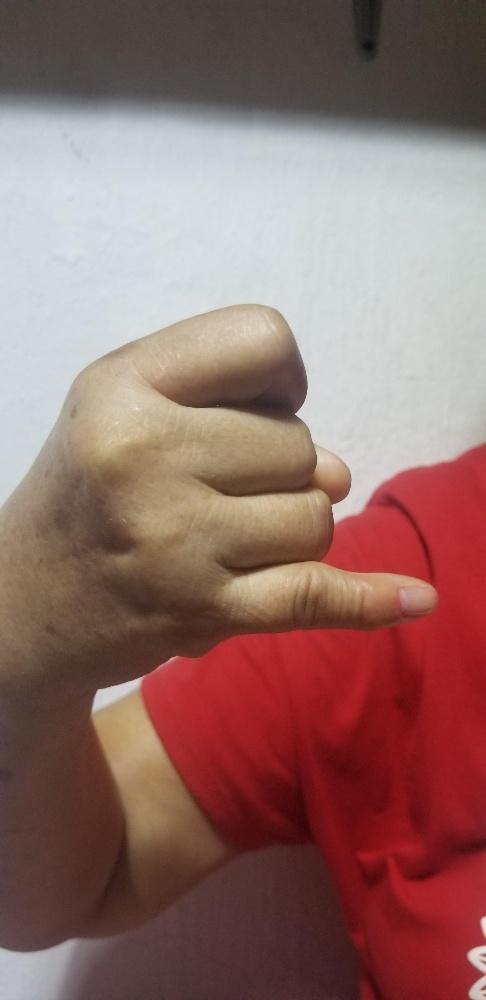j: (32, 299, 438, 638)
